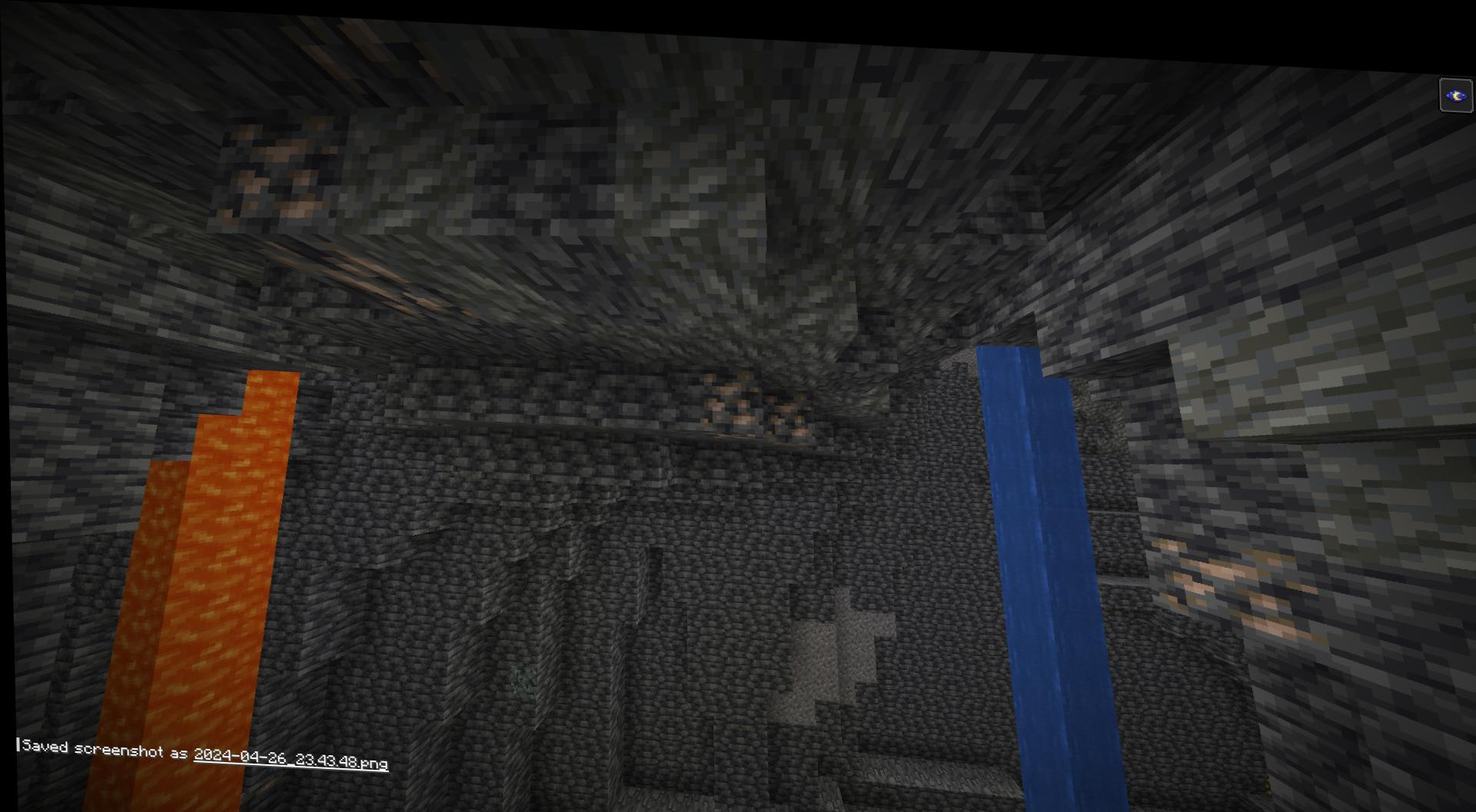iron ore: (1147, 514, 1315, 627), (215, 114, 333, 233), (701, 361, 760, 422), (765, 384, 810, 433)
